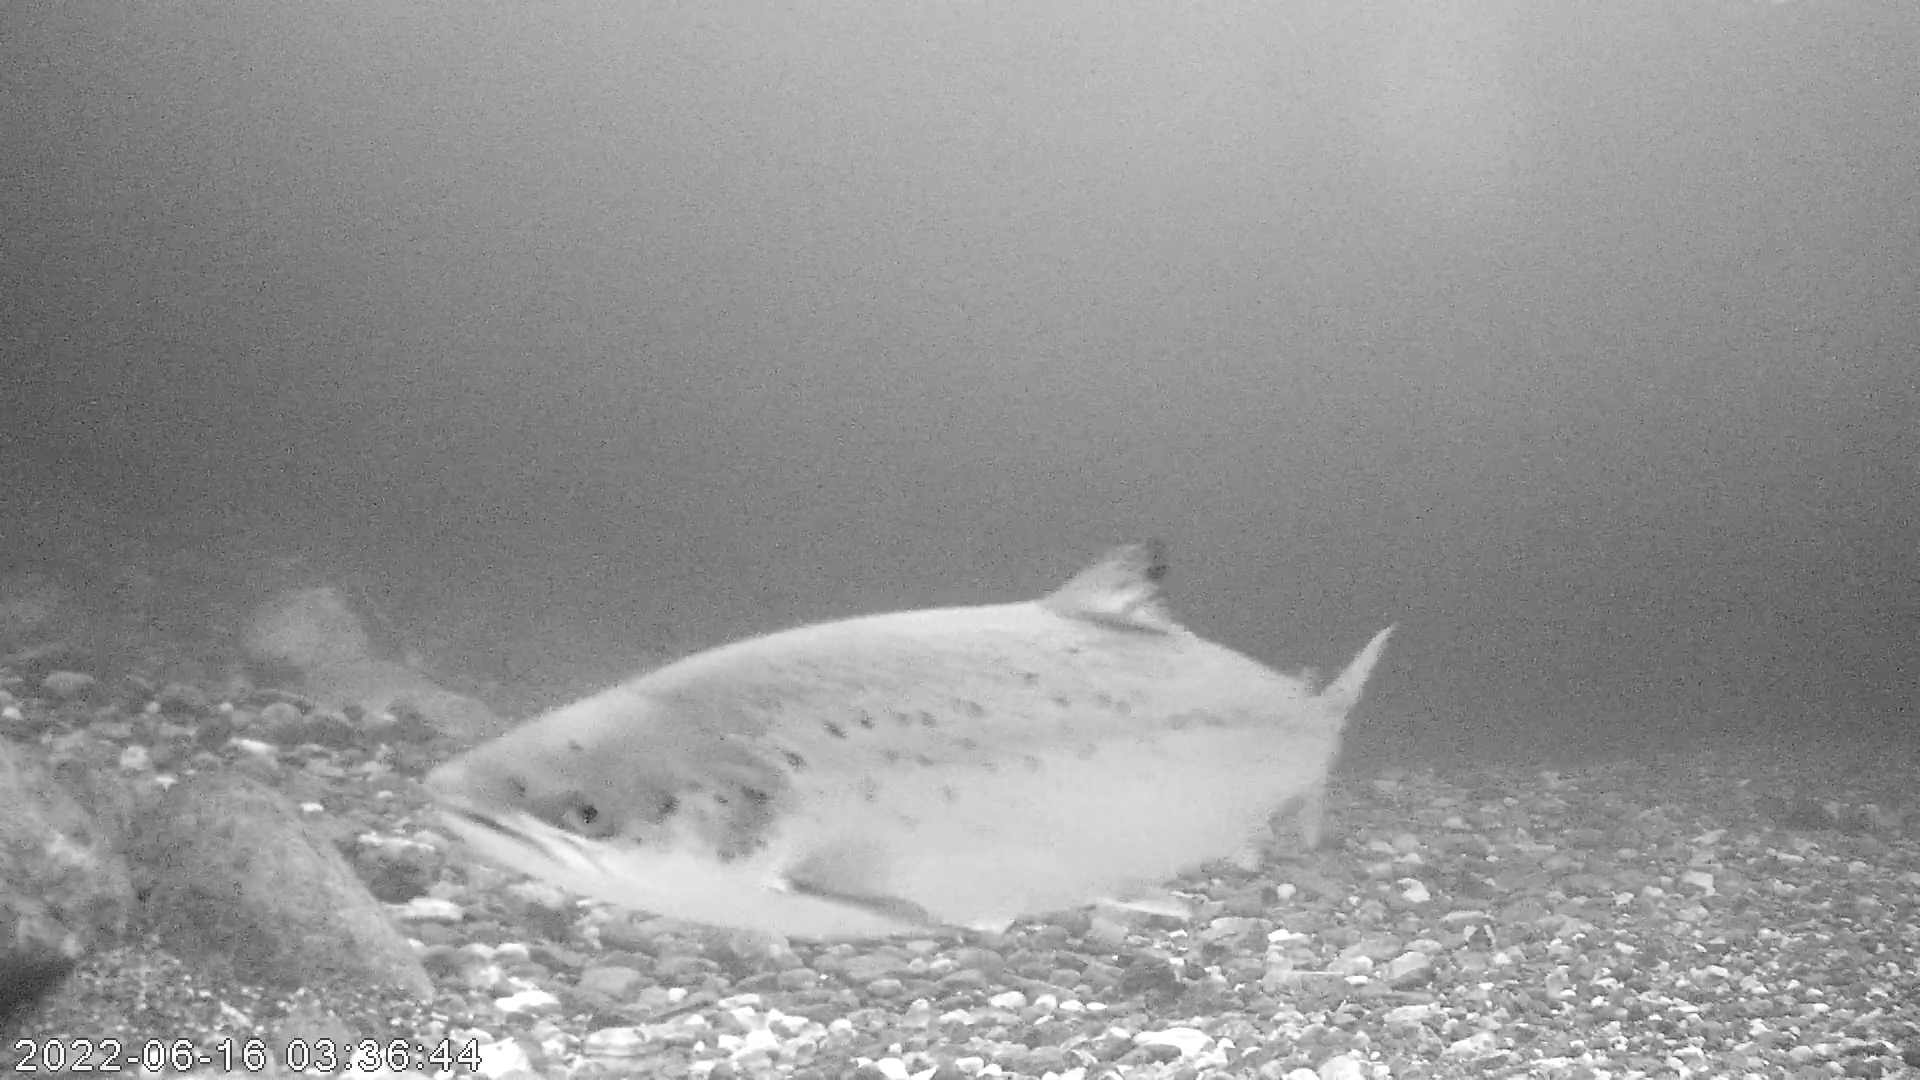salmon: (419, 534, 1396, 945)
